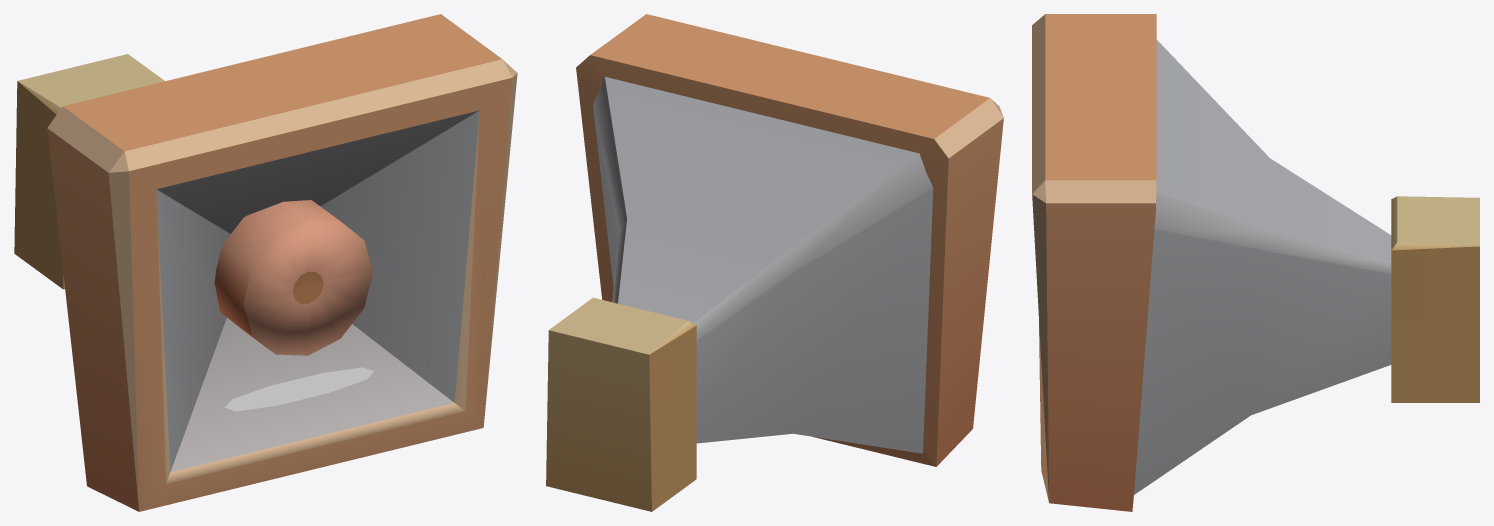
Rendered from Megaphone.glb.
The picture shows the model from 3 angles, left to right: view 1: azimuth 30°, elevation 25°; view 2: azimuth 150°, elevation 25°; view 3: azimuth 270°, elevation 25°; orthographic projection. The views are drawn at different scales.
Parts seen in each view (by area): view 1: Megaphone; view 2: Megaphone; view 3: Megaphone.
Boxes of the visible parts, x1,y1,x2,y2 form: Megaphone: (14, 14, 517, 511); Megaphone: (546, 14, 1003, 511); Megaphone: (1032, 14, 1479, 511).
Bounding box in the file's own units: 0.4354 × 0.3788 × 0.457.
